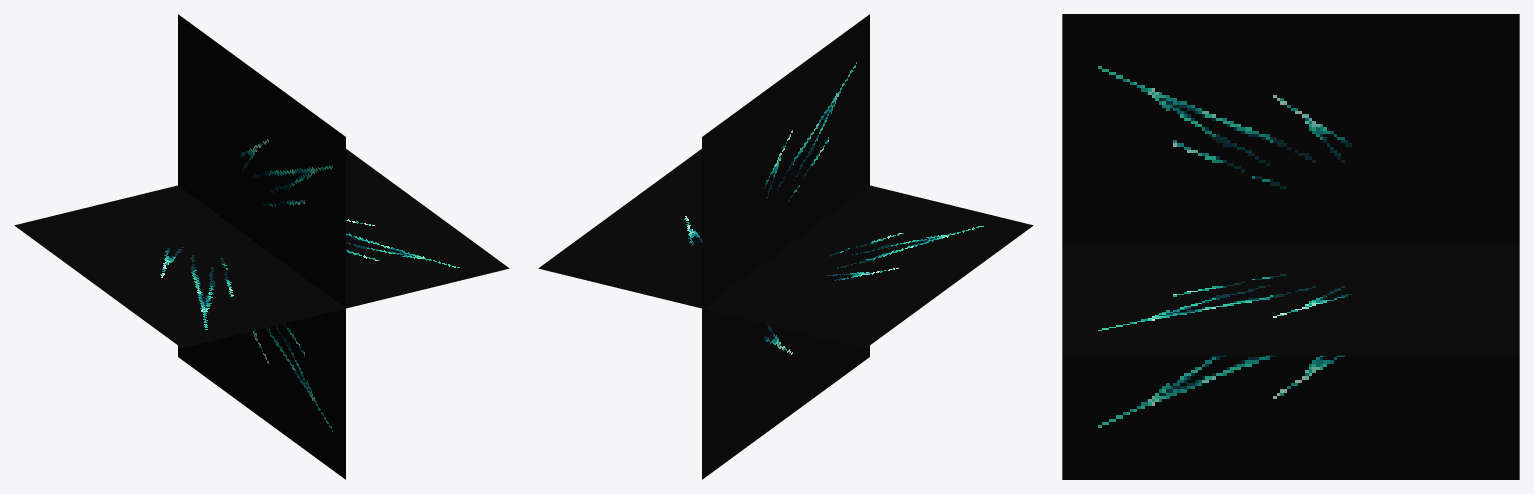
File: vfx_gale_thrust_5.gltf
3 renders of one model, left to right at view 1: azimuth 30°, elevation 25°; view 2: azimuth 150°, elevation 25°; view 3: azimuth 270°, elevation 25°, orthographic. The views are drawn at different scales.
Parts seen in each view (by area): view 1: cube (×4); view 2: cube (×4); view 3: cube (×4).
Boxes of the visible parts, <box> form: cube (×4): <box>14,14,509,479</box>; cube (×4): <box>538,14,1033,479</box>; cube (×4): <box>1062,14,1519,479</box>.
Size of the model in its own units: 2.25 by 2.25 by 2.
Materials: 1 (1 with a texture image).
